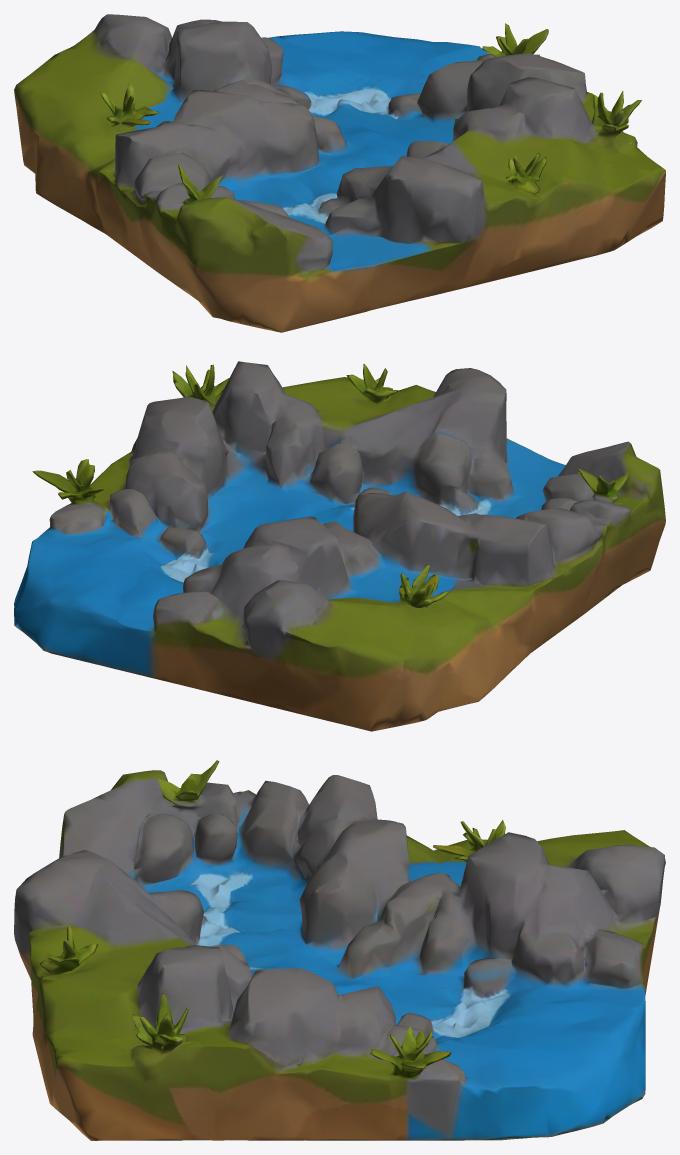
Rendered from river.glb.
3 renders of one model, top to bottom at view 1: azimuth 30°, elevation 25°; view 2: azimuth 150°, elevation 25°; view 3: azimuth 270°, elevation 25°, orthographic. The views are drawn at different scales.
Visible parts, largest first — view 1: tripo_node_a8e3ae74-0339-489a-8046-a8435538e470; view 2: tripo_node_a8e3ae74-0339-489a-8046-a8435538e470; view 3: tripo_node_a8e3ae74-0339-489a-8046-a8435538e470.
Boxes of the visible parts, x1,y1,x2,y2 form: tripo_node_a8e3ae74-0339-489a-8046-a8435538e470: (14, 14, 665, 332); tripo_node_a8e3ae74-0339-489a-8046-a8435538e470: (14, 361, 665, 731); tripo_node_a8e3ae74-0339-489a-8046-a8435538e470: (14, 760, 665, 1140).
Size of the model in its own units: 0.9933 by 0.2408 by 1.
Materials: 1 (1 with a texture image).
